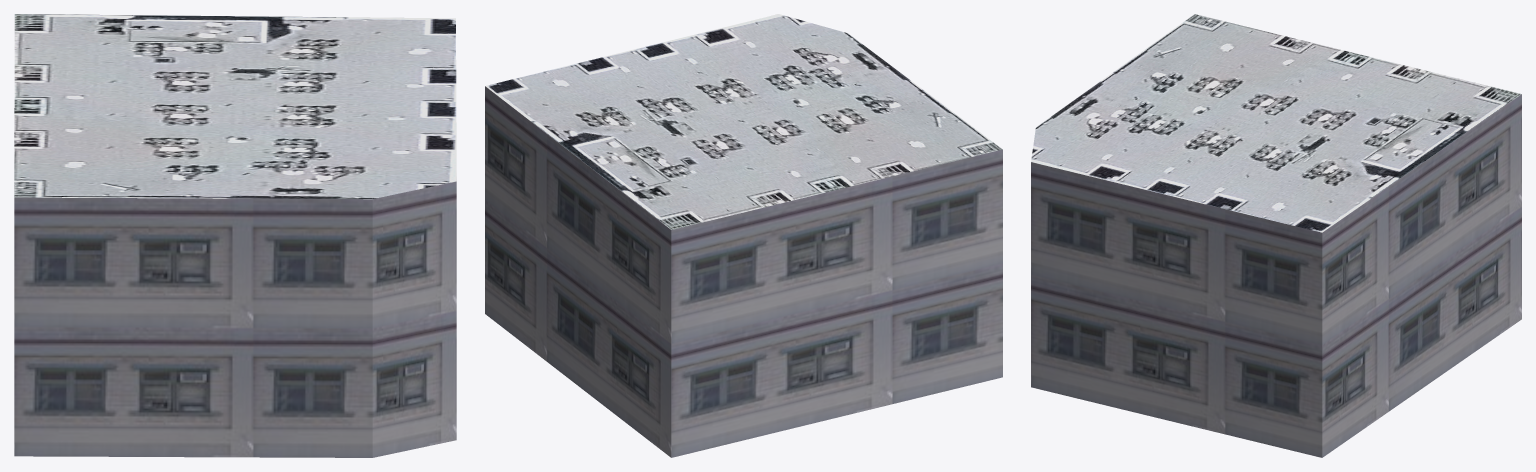
File: ResTex__599.fbx
The picture shows the model from 3 angles, left to right: view 1: azimuth 30°, elevation 25°; view 2: azimuth 150°, elevation 25°; view 3: azimuth 270°, elevation 25°; orthographic projection. The views are drawn at different scales.
Visible parts, largest first — view 1: CityEngineMaterial_1_m, CityEngineMaterial_4_m; view 2: CityEngineMaterial_1_m, CityEngineMaterial_4_m; view 3: CityEngineMaterial_1_m, CityEngineMaterial_4_m.
Boxes of the visible parts, x1=… form: CityEngineMaterial_1_m: x1=14, y1=181, x2=456, y2=457; CityEngineMaterial_4_m: x1=14, y1=14, x2=456, y2=199; CityEngineMaterial_1_m: x1=485, y1=86, x2=1002, y2=457; CityEngineMaterial_4_m: x1=485, y1=14, x2=1002, y2=229; CityEngineMaterial_1_m: x1=1031, y1=94, x2=1521, y2=457; CityEngineMaterial_4_m: x1=1031, y1=14, x2=1521, y2=232.
Bounding box in the file's own units: 12.5 × 6 × 11.85.
Materials: 2 (2 with a texture image).
